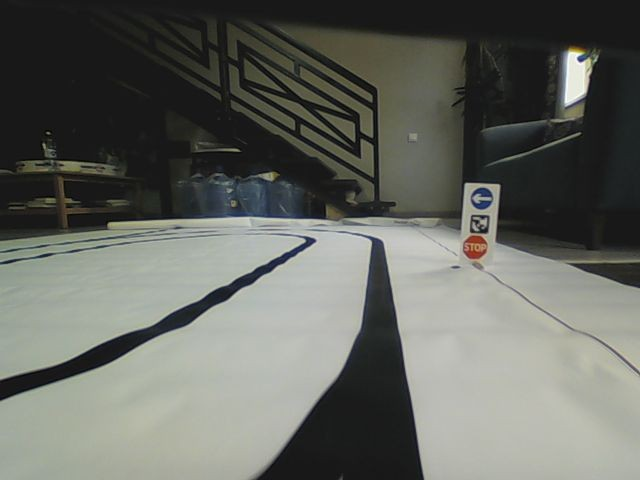Stop: (463, 235, 491, 259)
